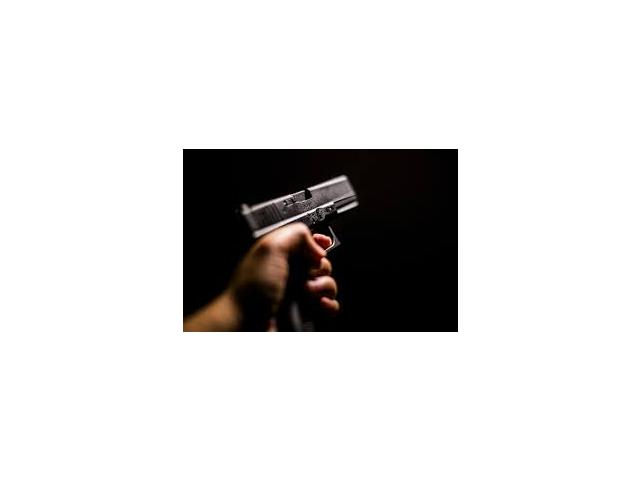pistol: (240, 173, 362, 333)
